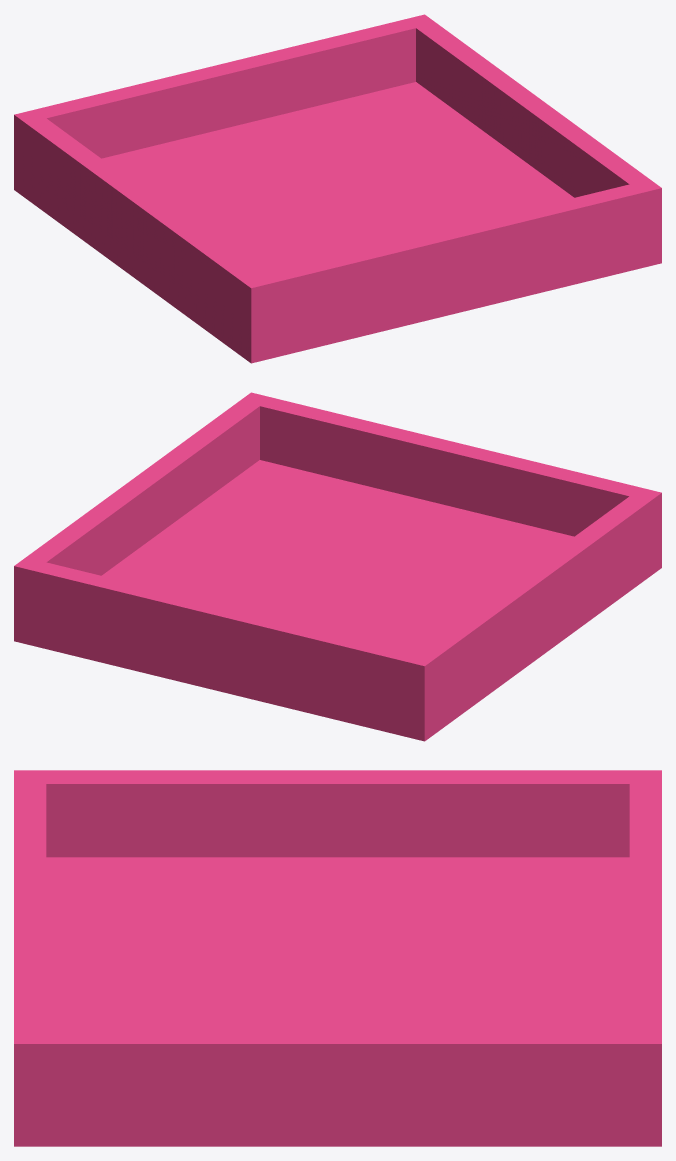
Rendered from PinkRoof_4Edges.glb.
3 renders of one model, top to bottom at view 1: azimuth 30°, elevation 25°; view 2: azimuth 150°, elevation 25°; view 3: azimuth 270°, elevation 25°, orthographic. The views are drawn at different scales.
Parts seen in each view (by area): view 1: roof_flat_4Edges_pink; view 2: roof_flat_4Edges_pink; view 3: roof_flat_4Edges_pink.
Part boxes in pixels (box(x1,y1,x2,y2)): roof_flat_4Edges_pink: box(14, 14, 661, 363); roof_flat_4Edges_pink: box(14, 392, 661, 741); roof_flat_4Edges_pink: box(14, 770, 661, 1146).
Size of what is drawn, in the model's own units: 4 by 0.7 by 4.
Materials: 1 (1 with a texture image).
